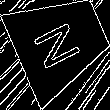N_NE: (31, 14, 89, 71)
